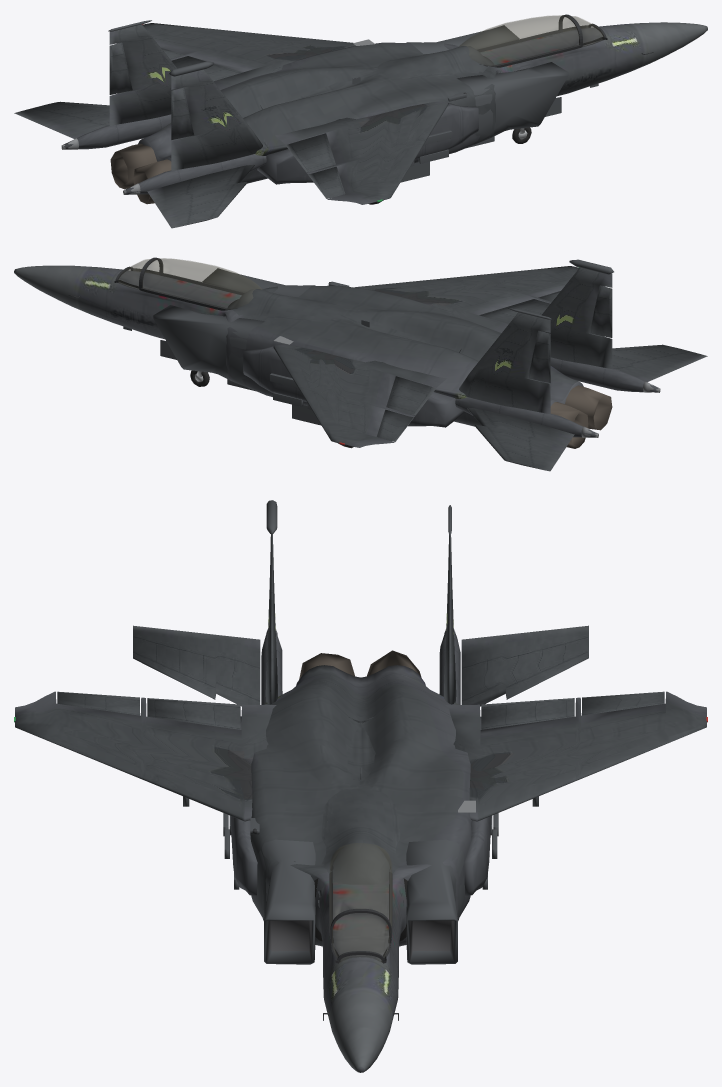
3 renders of one model, top to bottom at view 1: azimuth 30°, elevation 25°; view 2: azimuth 150°, elevation 25°; view 3: azimuth 270°, elevation 25°, orthographic. The views are drawn at different scales.
Visible parts, largest first — view 1: fuselage, wing_r, wing_l, fin_r, intake_r, fin_l, canopy, stab_r, dorsal, cft_r, stab_l, boom_l (+12 smaller); view 2: fuselage, wing_l, wing_r, fin_l, intake_l, fin_r, canopy, stab_l, dorsal, cft_l, stab_r, boom_r (+12 smaller); view 3: fuselage, wing_r, wing_l, dorsal, stab_r, stab_l, intake_l, intake_r, canopy, windscreen, flap_l, flap_r (+6 smaller).
Part boxes in pixels (bbox=[...]): fuselage: bbox=[138, 22, 707, 183]; wing_r: bbox=[275, 101, 448, 204]; wing_l: bbox=[116, 23, 355, 89]; fin_r: bbox=[171, 69, 262, 170]; intake_r: bbox=[457, 62, 568, 144]; fin_l: bbox=[109, 24, 180, 125]; canopy: bbox=[459, 15, 579, 65]; stab_r: bbox=[147, 164, 254, 228]; dorsal: bbox=[260, 46, 500, 109]; cft_r: bbox=[257, 103, 478, 184]; stab_l: bbox=[14, 101, 109, 138]; boom_l: bbox=[63, 114, 171, 149]; fuselage: bbox=[14, 265, 583, 426]; wing_l: bbox=[273, 344, 446, 447]; wing_r: bbox=[354, 266, 605, 332]; fin_l: bbox=[459, 312, 550, 414]; intake_l: bbox=[153, 305, 264, 387]; fin_r: bbox=[541, 267, 612, 368]; canopy: bbox=[142, 258, 261, 308]; stab_l: bbox=[467, 407, 574, 471]; dorsal: bbox=[227, 289, 461, 352]; cft_l: bbox=[243, 346, 464, 427]; stab_r: bbox=[612, 344, 707, 381]; boom_r: bbox=[550, 357, 658, 392]; fuselage: bbox=[250, 665, 471, 1072]; wing_r: bbox=[15, 691, 276, 821]; wing_l: bbox=[445, 691, 706, 821]; dorsal: bbox=[316, 717, 405, 907]; stab_r: bbox=[133, 625, 260, 706]; stab_l: bbox=[461, 625, 588, 706]; intake_l: bbox=[406, 839, 465, 964]; intake_r: bbox=[256, 839, 315, 964]; canopy: bbox=[329, 843, 392, 927]; windscreen: bbox=[332, 913, 390, 962]; flap_l: bbox=[481, 698, 574, 729]; flap_r: bbox=[147, 698, 240, 729].
Bounding box in the file's own units: 19.35 × 5.69 × 13.09.
Materials: 29 (18 with a texture image).
